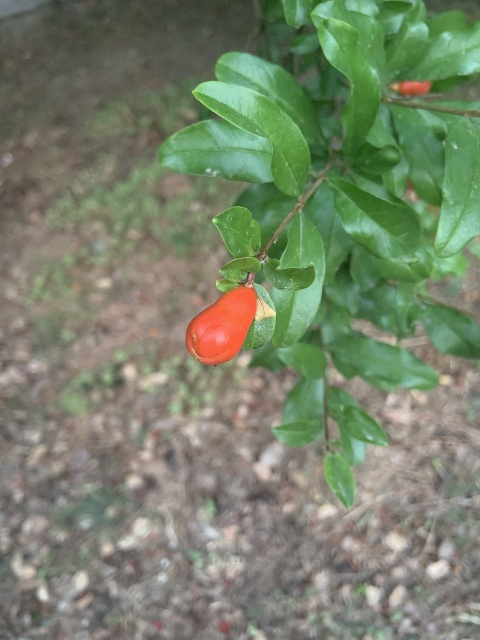bud: (186, 283, 256, 365), (394, 80, 430, 95)
